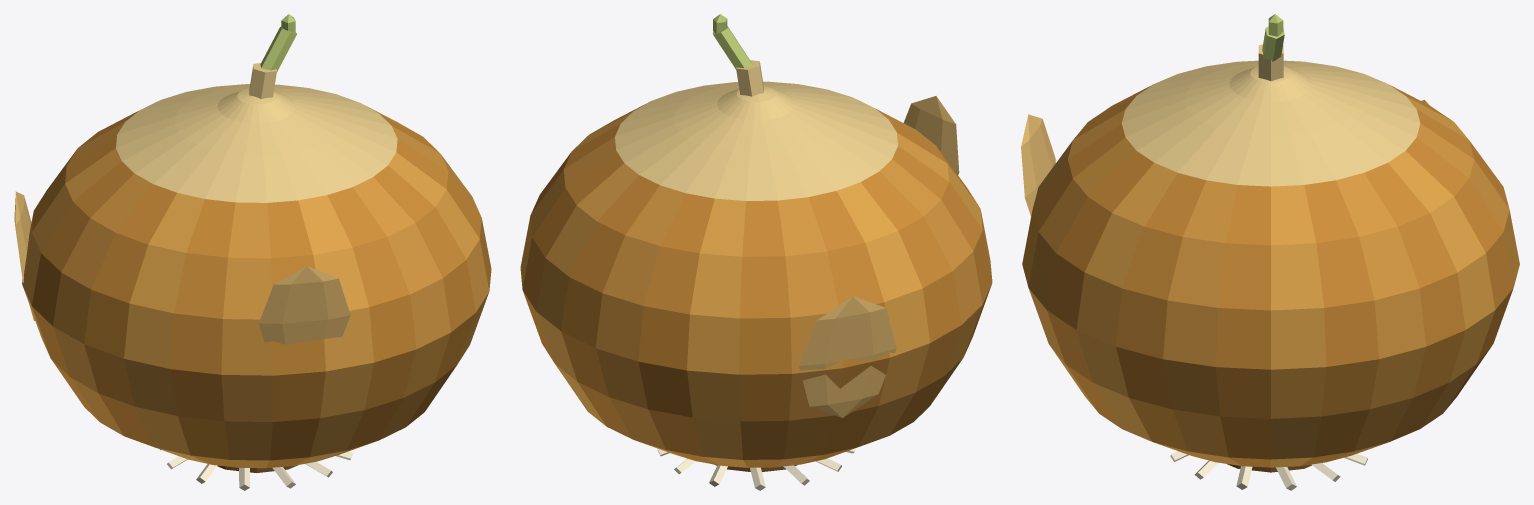
File: onion.glb
3 views of the same model, side by side, from view 1: azimuth 30°, elevation 25°; view 2: azimuth 150°, elevation 25°; view 3: azimuth 270°, elevation 25° (orthographic). The views are drawn at different scales.
Visible parts, largest first — view 1: Onion; view 2: Onion; view 3: Onion.
Part boxes in pixels (x1,y1,x2,y2): Onion: [14, 14, 491, 490]; Onion: [520, 14, 992, 490]; Onion: [1021, 14, 1519, 490].
Bounding box in the file's own units: 2.4 × 2.4 × 2.4.
